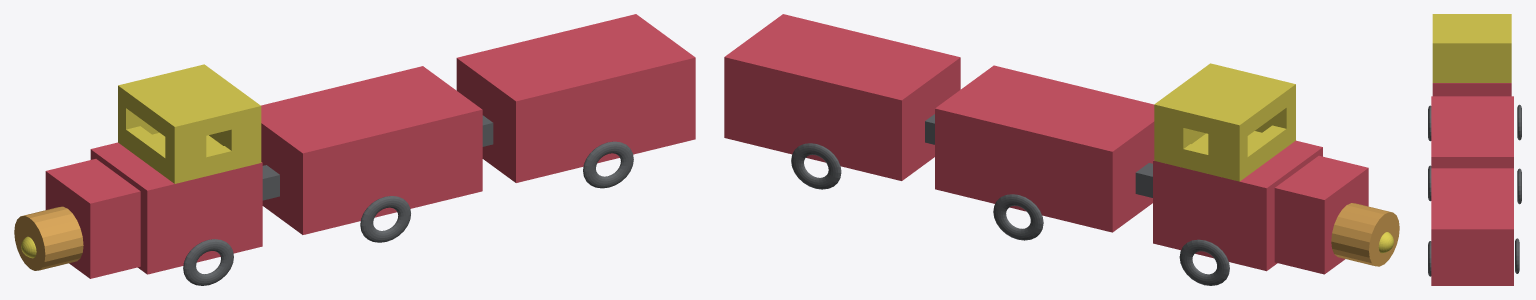
Rendered from train.glb.
3 renders of one model, left to right at view 1: azimuth 30°, elevation 25°; view 2: azimuth 150°, elevation 25°; view 3: azimuth 270°, elevation 25°, orthographic. The views are drawn at different scales.
Visible parts, largest first — view 1: Mesh_Mesh_head_geo.001_lambert2SG.001; view 2: Mesh_Mesh_head_geo.001_lambert2SG.001; view 3: Mesh_Mesh_head_geo.001_lambert2SG.001.
Part boxes in pixels (x1=…): Mesh_Mesh_head_geo.001_lambert2SG.001: x1=14, y1=14, x2=695, y2=285; Mesh_Mesh_head_geo.001_lambert2SG.001: x1=724, y1=14, x2=1399, y2=285; Mesh_Mesh_head_geo.001_lambert2SG.001: x1=1428, y1=14, x2=1521, y2=285.
Size of the model in its own units: 627 by 153 by 114.
